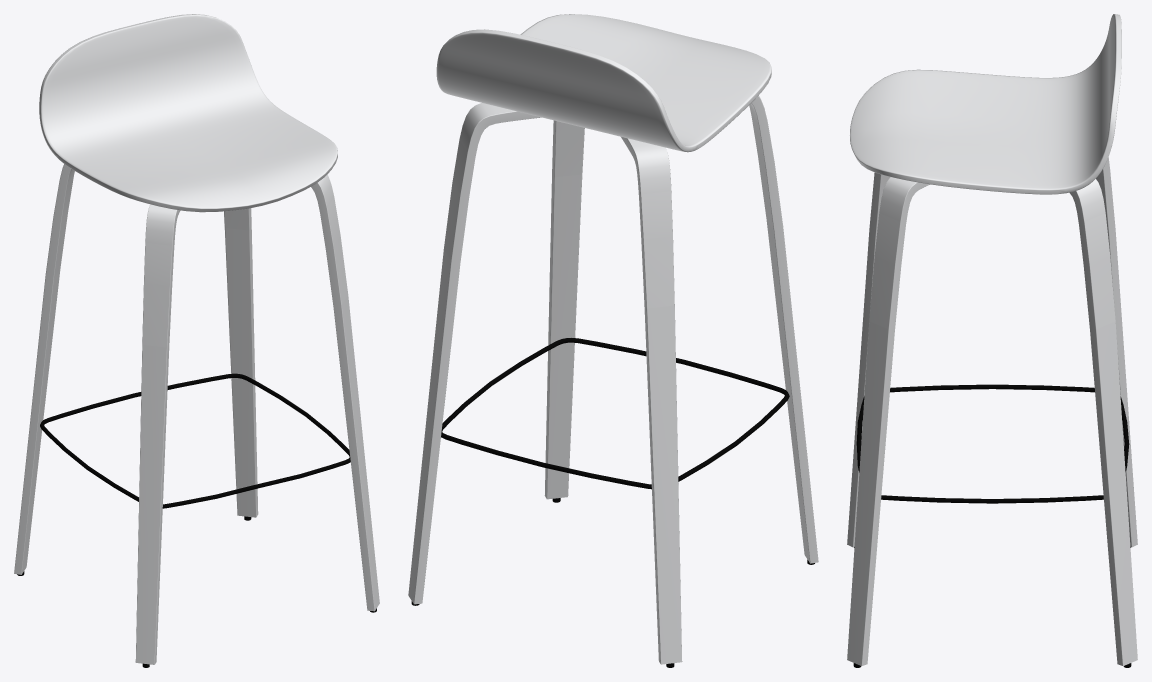
Rendered from chair_25_06.001.fbx.
3 views of the same model, side by side, from view 1: azimuth 30°, elevation 25°; view 2: azimuth 150°, elevation 25°; view 3: azimuth 270°, elevation 25° (orthographic). The views are drawn at different scales.
Parts seen in each view (by area): view 1: chair_25_06.001; view 2: chair_25_06.001; view 3: chair_25_06.001.
Part boxes in pixels (box(x1,y1,x2,y2)): chair_25_06.001: box(14, 14, 379, 667); chair_25_06.001: box(408, 14, 818, 667); chair_25_06.001: box(847, 14, 1137, 667).
Bounding box in the file's own units: 38.24 × 78.78 × 36.74.
Materials: 1 (1 with a texture image).
